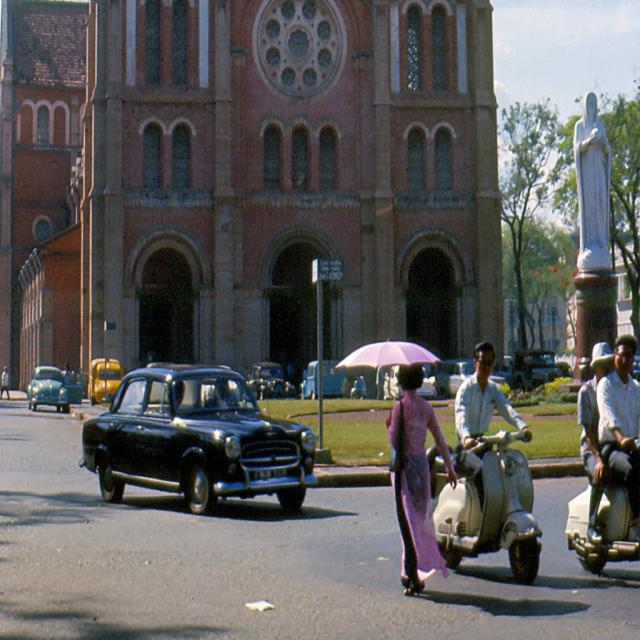car: (78, 364, 318, 515), (26, 364, 81, 413)
